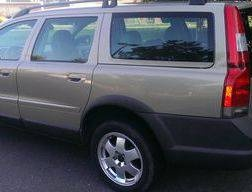volvo: (1, 1, 252, 190)
